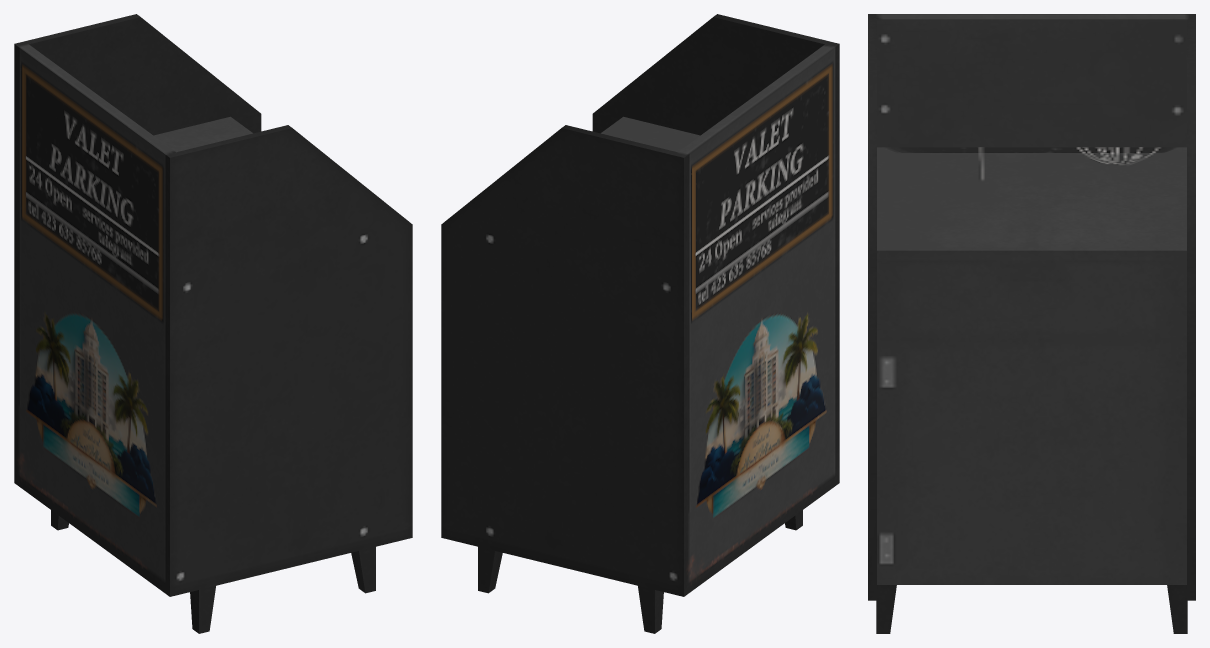
The model's file is MB_Pedestal_Valet_Parking.fbx.
3 views of the same model, side by side, from view 1: azimuth 30°, elevation 25°; view 2: azimuth 150°, elevation 25°; view 3: azimuth 270°, elevation 25° (orthographic). The views are drawn at different scales.
Parts seen in each view (by area): view 1: MB_Pedestal_Valet_Parking; view 2: MB_Pedestal_Valet_Parking; view 3: MB_Pedestal_Valet_Parking.
Boxes of the visible parts, x1,y1,x2,y2 form: MB_Pedestal_Valet_Parking: (14,14,412,633); MB_Pedestal_Valet_Parking: (441,14,839,633); MB_Pedestal_Valet_Parking: (868,14,1195,633).
Bounding box in the file's own units: 49.32 × 94.52 × 54.8.
